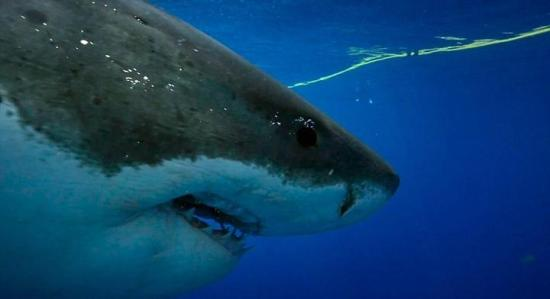shark: (1, 1, 402, 295)
